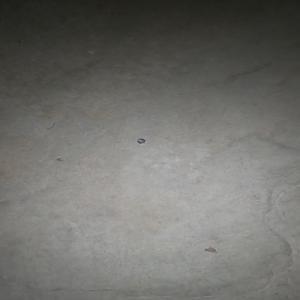Nut: (136, 138, 145, 144)
